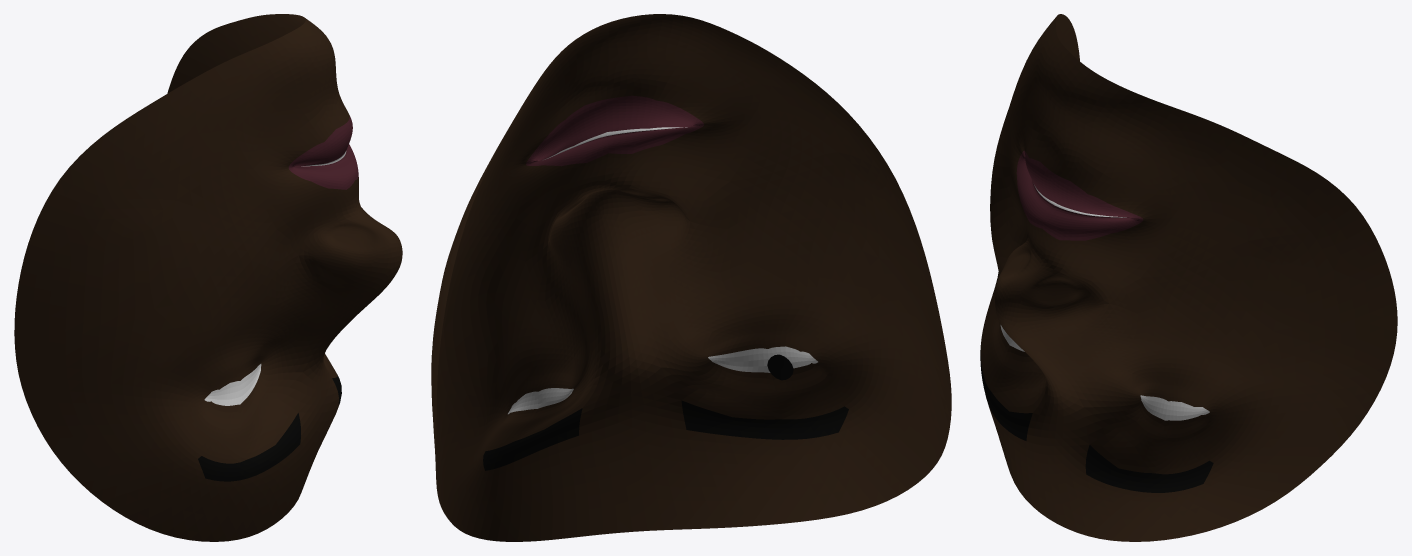
Rendered from VID-20250515-WA0002_f_00513.obj.
The picture shows the model from 3 angles, left to right: view 1: azimuth 30°, elevation 25°; view 2: azimuth 150°, elevation 25°; view 3: azimuth 270°, elevation 25°; orthographic projection. The views are drawn at different scales.
Visible parts, largest first — view 1: face_mesh_subdivided; view 2: face_mesh_subdivided; view 3: face_mesh_subdivided.
Boxes of the visible parts, left/top/right/bottom form: face_mesh_subdivided: left=14, top=14, right=402, bottom=541; face_mesh_subdivided: left=431, top=14, right=951, bottom=541; face_mesh_subdivided: left=980, top=14, right=1397, bottom=541.
Bounding box in the file's own units: 0.418 × 0.5136 × 0.4087.
